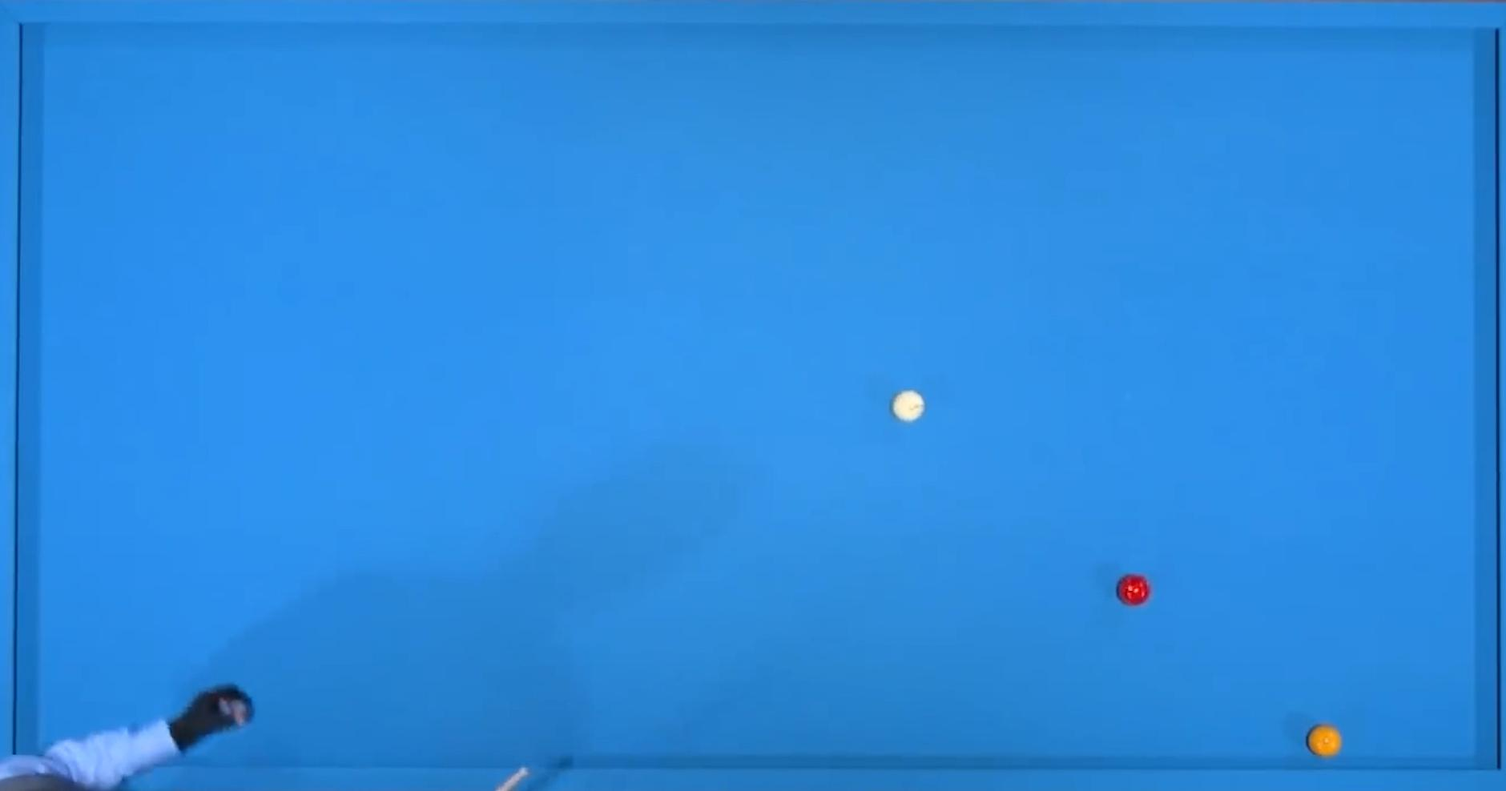red ball: (1116, 570, 1157, 612)
white ball: (889, 387, 929, 427)
yellow ball: (1305, 721, 1345, 758)
